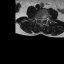CCS_normal: (41, 17, 42, 23)
LFS_normal: (44, 17, 45, 21)
LLS_normal: (42, 17, 44, 22)
RFS_stenosis: (38, 17, 39, 22)
RLS_severe_stenosis: (39, 17, 41, 22)
